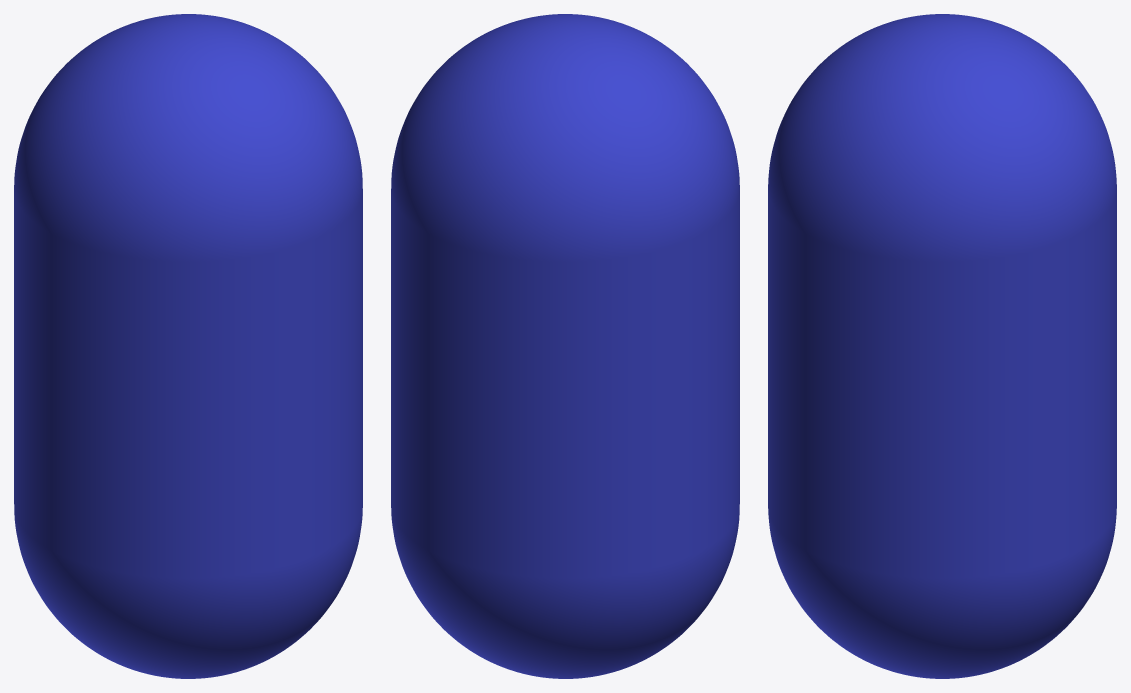
The model's file is Body.fbx.
3 renders of one model, left to right at view 1: azimuth 30°, elevation 25°; view 2: azimuth 150°, elevation 25°; view 3: azimuth 270°, elevation 25°, orthographic.
Visible parts, largest first — view 1: root; view 2: root; view 3: root.
Boxes of the visible parts, bbox=[...] form: root: bbox=[14, 14, 362, 678]; root: bbox=[391, 14, 739, 678]; root: bbox=[768, 14, 1116, 678].
Bounding box in the file's own units: 0.1 × 0.2 × 0.1.
